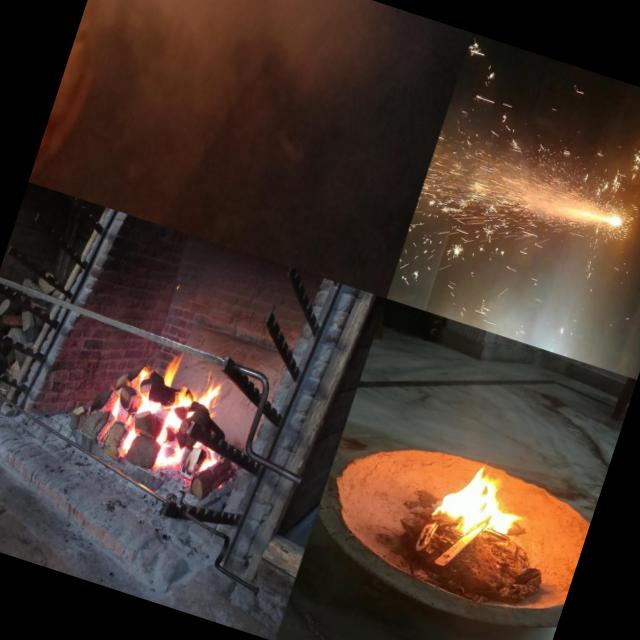fire: (90, 334, 232, 483), (422, 448, 536, 554), (407, 266, 455, 317)
smoke: (67, 0, 409, 158)
